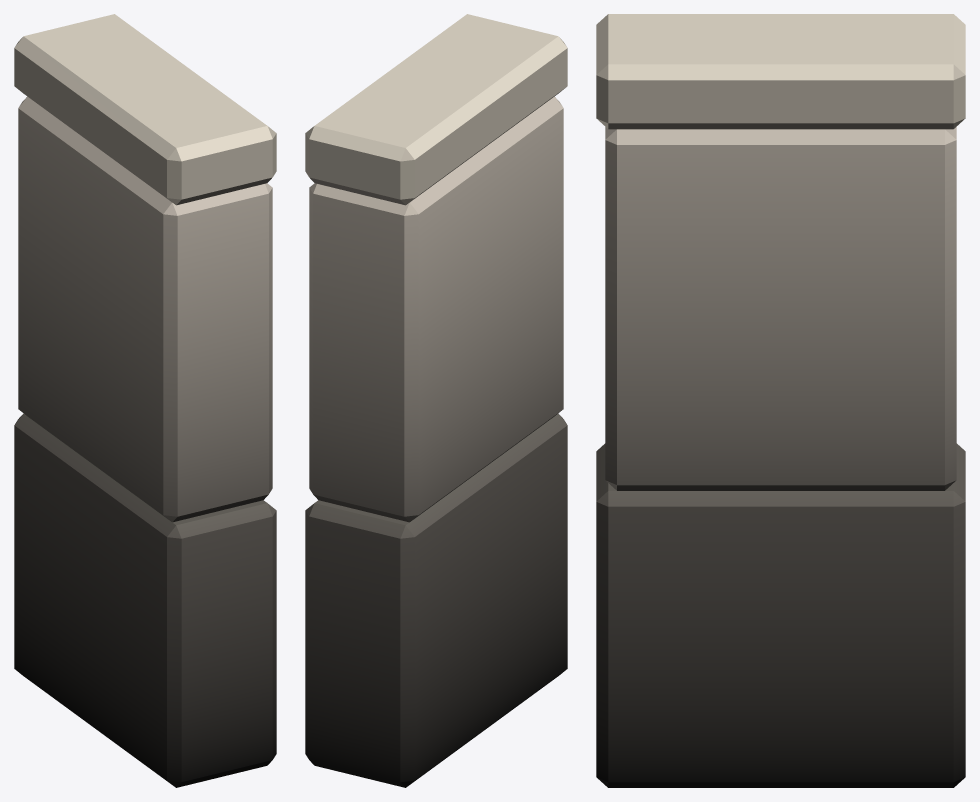
Rendered from SM_VKI_Post_Ancient_Mid_Cut.fbx.
3 views of the same model, side by side, from view 1: azimuth 30°, elevation 25°; view 2: azimuth 150°, elevation 25°; view 3: azimuth 270°, elevation 25° (orthographic). The views are drawn at different scales.
Parts seen in each view (by area): view 1: SM_VKI_Post_Ancient_Mid_Cut.001; view 2: SM_VKI_Post_Ancient_Mid_Cut.001; view 3: SM_VKI_Post_Ancient_Mid_Cut.001.
Boxes of the visible parts, x1,y1,x2,y2 form: SM_VKI_Post_Ancient_Mid_Cut.001: (14,14,276,787); SM_VKI_Post_Ancient_Mid_Cut.001: (305,14,567,787); SM_VKI_Post_Ancient_Mid_Cut.001: (596,14,965,787).
Bounding box in the file's own units: 0.24 × 1.34 × 0.62.
